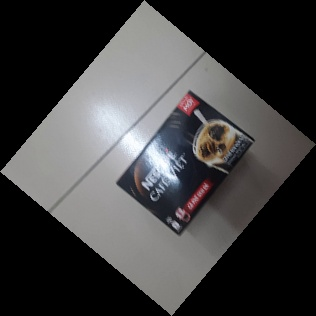CF Viet: (113, 88, 256, 236)
